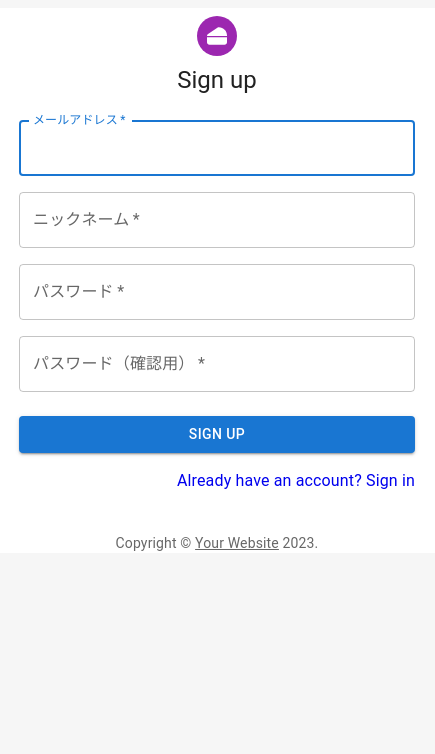
Test: サインアップ画面 › パスワード（確認用）入力 › 入力パスワードと一致しない場合、エラー
This screenshot has width=435, height=754.
Type "a12345678" into the password field labelled "パスワード *" at (217, 292), box [19,264,415,320]
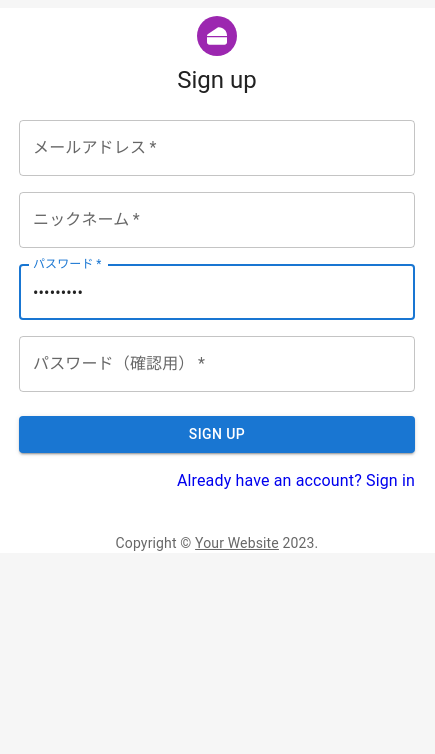
Type "a1234" into the password field labelled "パスワード（確認用） *" at (217, 364), box [19,336,415,392]
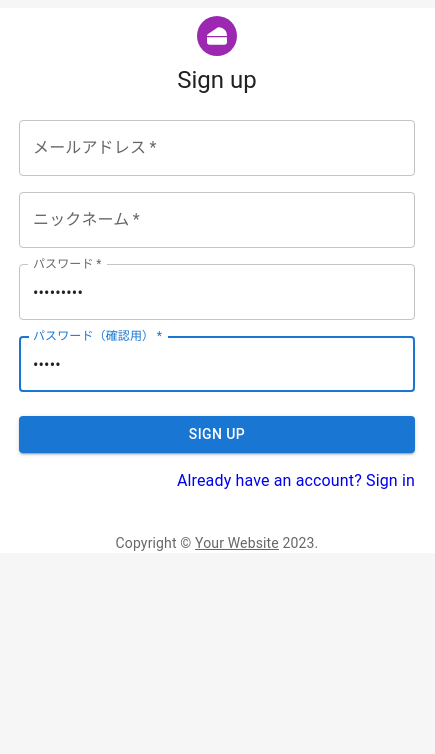
Click the button "Sign Up" at (217, 434), box [19,416,415,452]
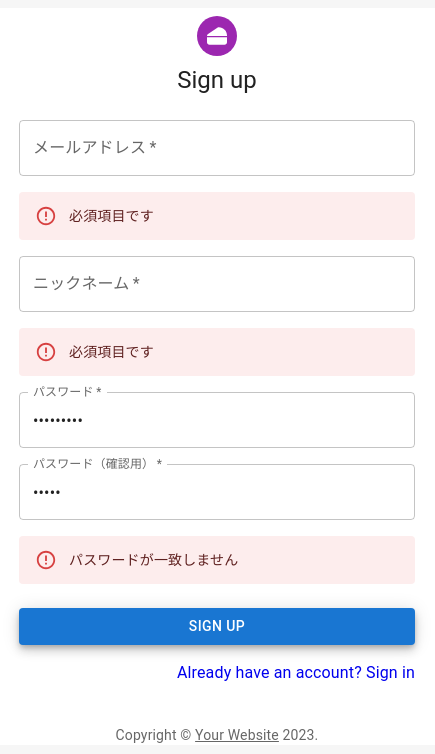
Result: the text "パスワードが一致しません" is shown at [69,552,238,568]
